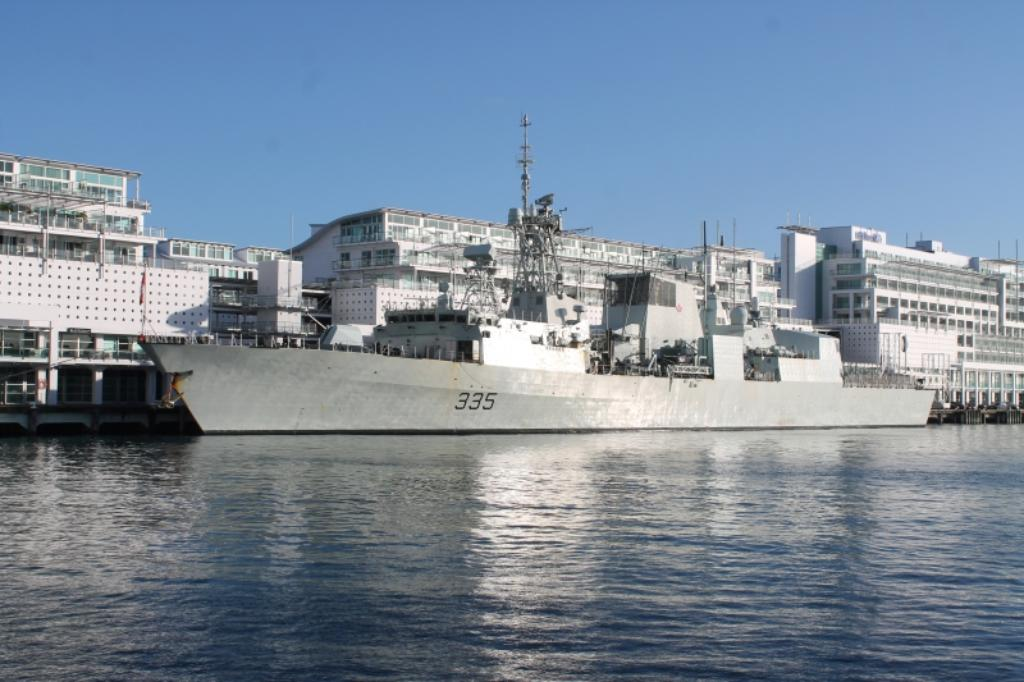Warship: (136, 103, 940, 441)
